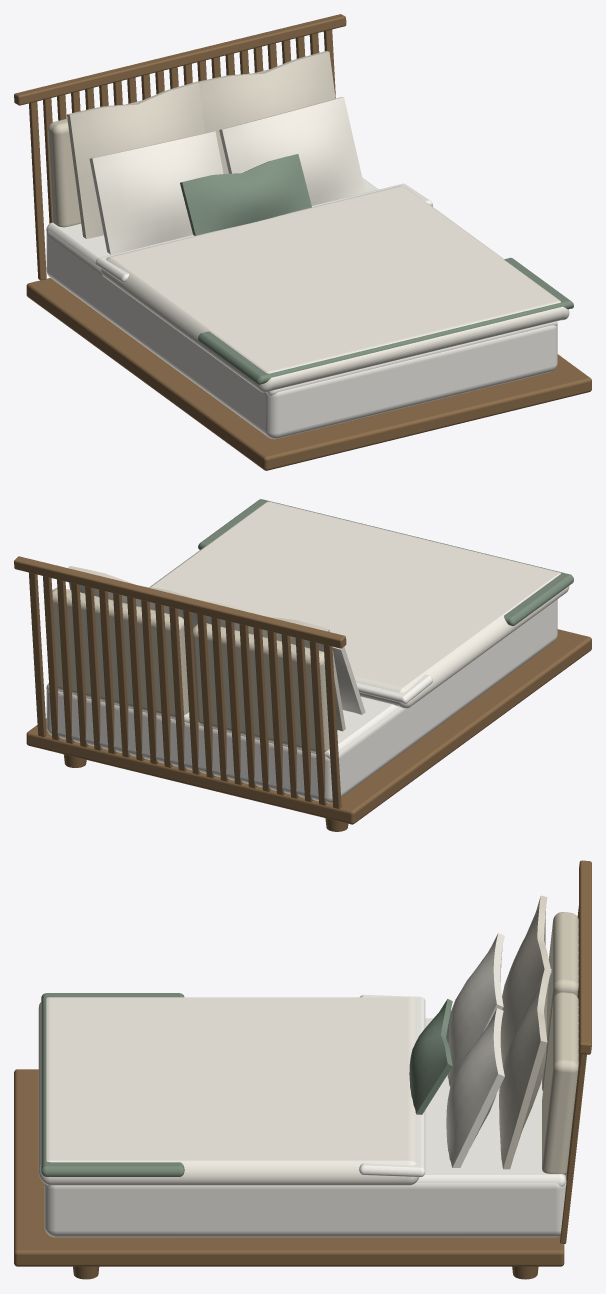
The model's file is atelier-bed-tatami-compact.glb.
3 renders of one model, top to bottom at view 1: azimuth 30°, elevation 25°; view 2: azimuth 150°, elevation 25°; view 3: azimuth 270°, elevation 25°, orthographic. The views are drawn at different scales.
Size of the model in its own units: 1.58 by 0.9997 by 2.1.
